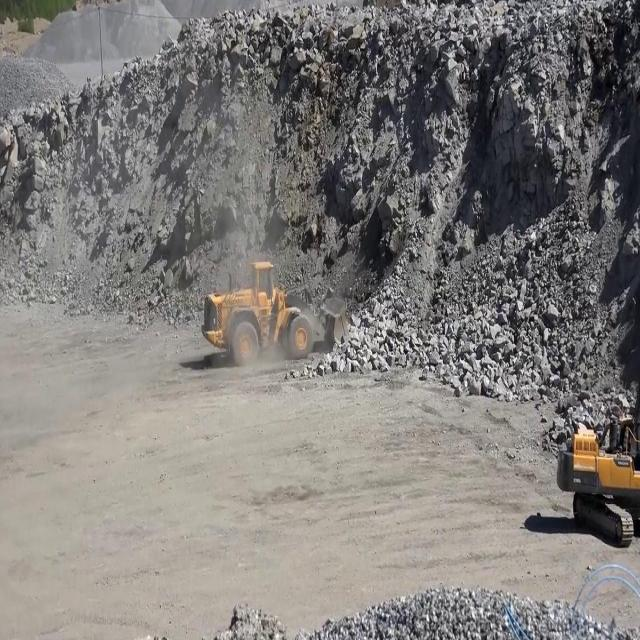buldozerpayloadergrader: (198, 254, 352, 374)
excavator: (554, 384, 640, 548)
